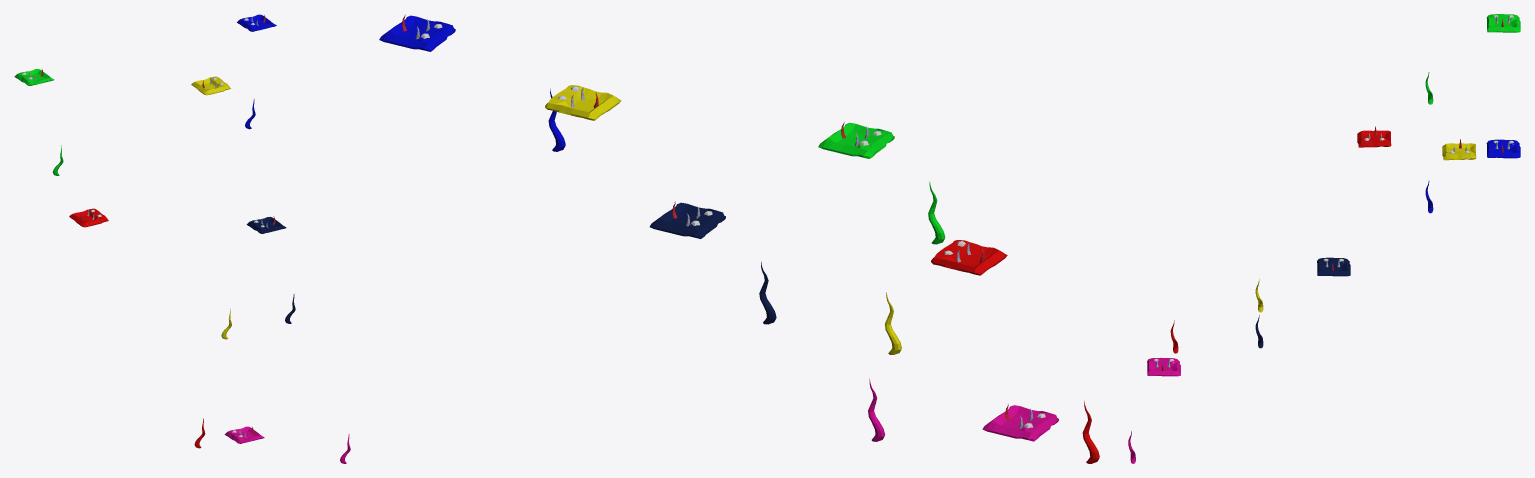
The model's file is snakeAll.obj.
The picture shows the model from 3 angles, left to right: view 1: azimuth 30°, elevation 25°; view 2: azimuth 150°, elevation 25°; view 3: azimuth 270°, elevation 25°; orthographic projection. The views are drawn at different scales.
Parts seen in each view (by area): view 1: Cube.002_Cube.003, Cube.003_Cube.004, Cube.004_Cube.005, Cube.005_Cube.006, Cube.001, Cube_Cube.002; view 2: Cube_Cube.002, Cube.004_Cube.005, Cube.001, Cube.005_Cube.006, Cube.002_Cube.003, Cube.003_Cube.004; view 3: Cube_Cube.002, Cube.001, Cube.004_Cube.005, Cube.005_Cube.006, Cube.003_Cube.004, Cube.002_Cube.003.
Part boxes in pixels (bbox=[...]): Cube.002_Cube.003: bbox=[191, 76, 230, 95]; Cube.003_Cube.004: bbox=[69, 208, 108, 227]; Cube.004_Cube.005: bbox=[246, 216, 286, 233]; Cube.005_Cube.006: bbox=[224, 426, 264, 443]; Cube.001: bbox=[237, 14, 276, 31]; Cube_Cube.002: bbox=[14, 69, 54, 85]; Cube_Cube.002: bbox=[818, 122, 894, 158]; Cube.004_Cube.005: bbox=[649, 202, 725, 238]; Cube.001: bbox=[379, 15, 455, 51]; Cube.005_Cube.006: bbox=[982, 405, 1058, 441]; Cube.002_Cube.003: bbox=[545, 85, 621, 120]; Cube.003_Cube.004: bbox=[931, 240, 1007, 275]; Cube_Cube.002: bbox=[1487, 14, 1520, 32]; Cube.001: bbox=[1486, 139, 1520, 158]; Cube.004_Cube.005: bbox=[1317, 257, 1350, 276]; Cube.005_Cube.006: bbox=[1147, 357, 1180, 376]; Cube.003_Cube.004: bbox=[1357, 130, 1391, 147]; Cube.002_Cube.003: bbox=[1442, 143, 1476, 160].
Bounding box in the file's own units: 7.84 × 9.44 × 9.24.
